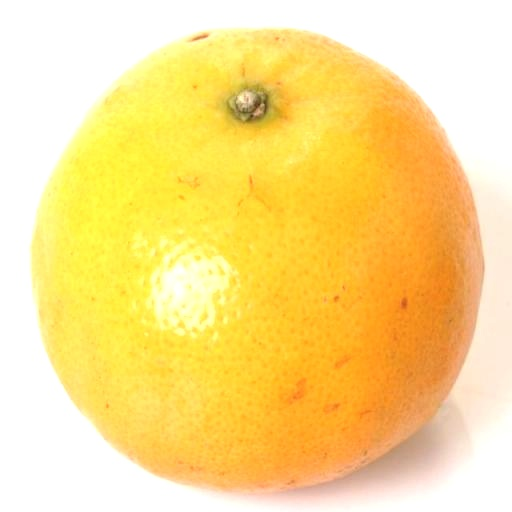fruit: (32, 28, 483, 491)
